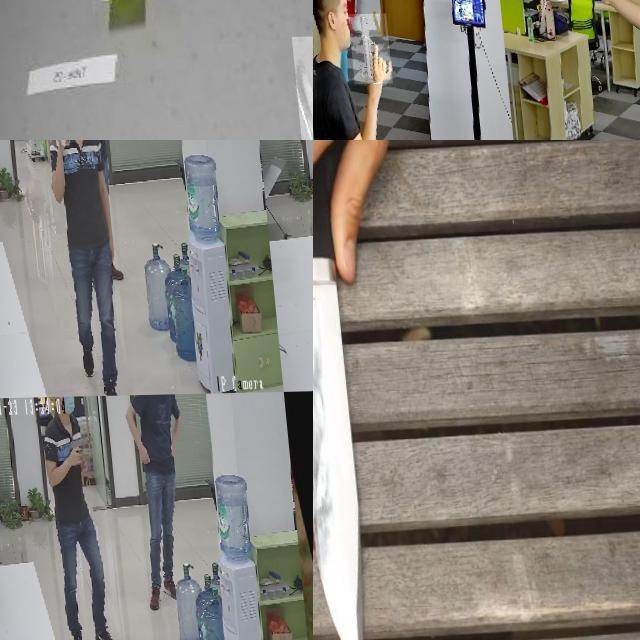-: (313, 151, 403, 640), (313, 225, 371, 551)
gun-knife-thesis - v11 Yolov5 augmented: (346, 14, 389, 85), (565, 0, 608, 29), (60, 432, 84, 467), (45, 140, 68, 165)
